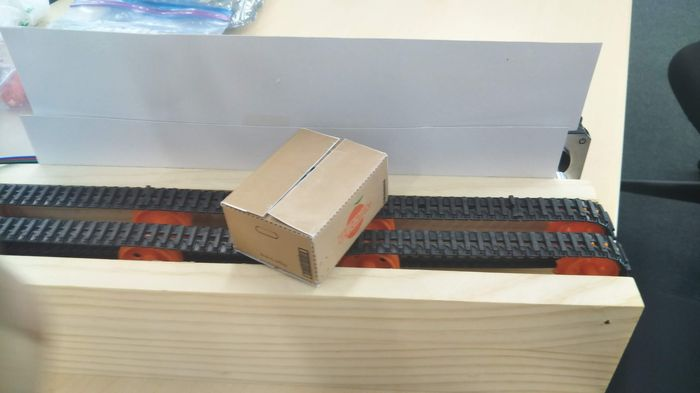box1: (216, 125, 391, 288)
